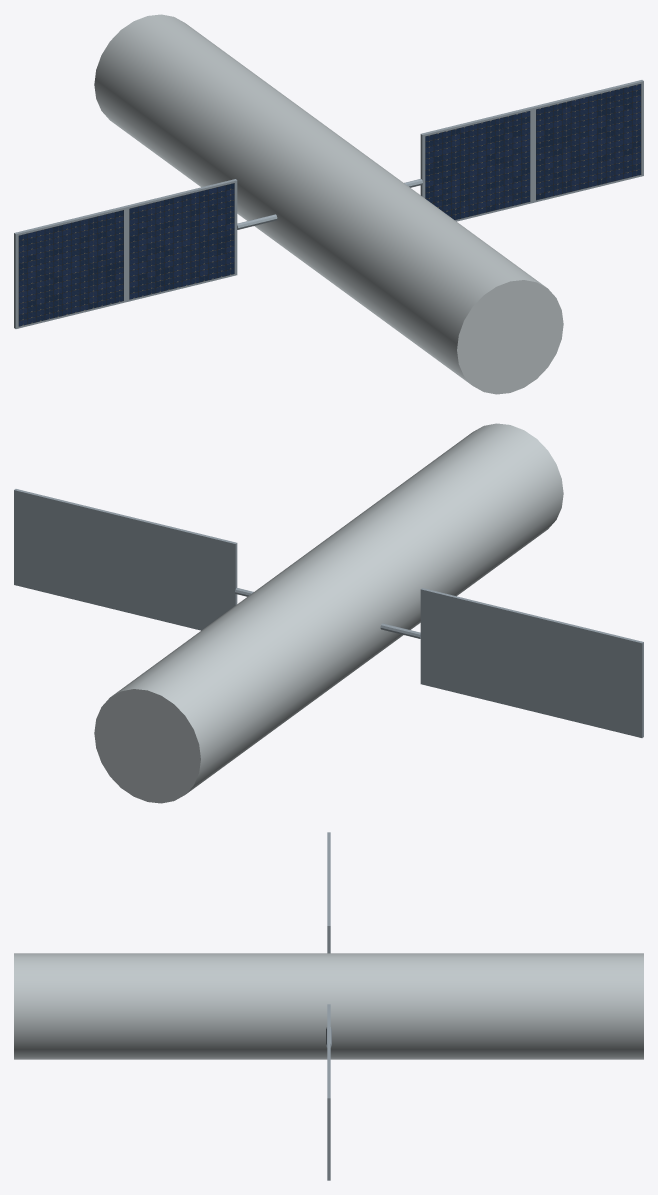
The model's file is ref-okean-o-25860.glb.
The picture shows the model from 3 angles, top to bottom: view 1: azimuth 30°, elevation 25°; view 2: azimuth 150°, elevation 25°; view 3: azimuth 270°, elevation 25°; orthographic projection. The views are drawn at different scales.
Parts seen in each view (by area): view 1: Spacecraft body, Photovoltaic laminates (×4), Array frame (×4); view 2: Spacecraft body, Array frame (×4); view 3: Spacecraft body, Array frame.
Boxes of the visible parts, bbox=[...] form: Spacecraft body: bbox=[94, 14, 563, 394]; Photovoltaic laminates (×4): bbox=[18, 84, 641, 326]; Array frame (×4): bbox=[14, 80, 643, 328]; Spacecraft body: bbox=[94, 423, 563, 803]; Array frame (×4): bbox=[14, 489, 643, 737]; Spacecraft body: bbox=[14, 953, 643, 1059]; Array frame: bbox=[327, 1051, 330, 1180].
Bounding box in the file's own units: 10.6 × 1.8 × 10.6.
3 materials, 1 textured.
